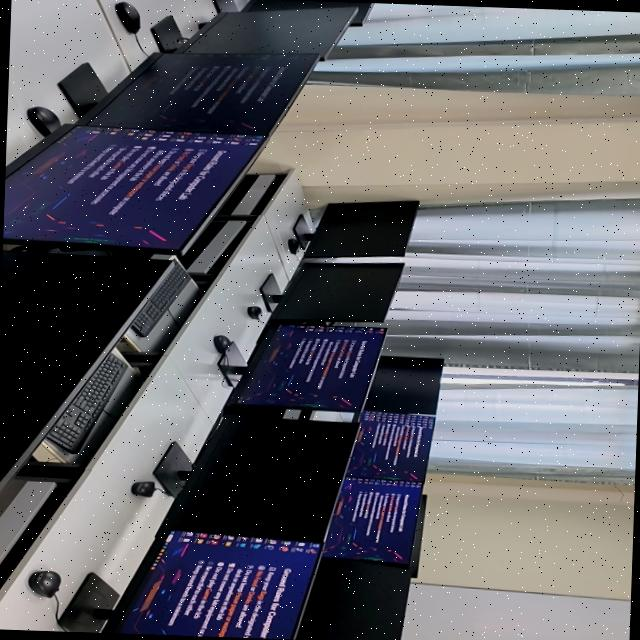Chair: (224, 399, 312, 418)
Keyboard: (46, 352, 125, 452), (129, 264, 189, 336)
Monitor: (0, 249, 178, 489), (3, 123, 264, 253), (154, 414, 359, 541), (116, 530, 321, 639), (59, 51, 318, 133), (218, 323, 387, 410), (151, 6, 355, 57), (295, 554, 411, 640), (260, 261, 403, 322), (324, 477, 422, 563), (293, 200, 418, 257), (347, 410, 435, 483), (365, 355, 443, 413), (243, 0, 373, 24), (410, 494, 427, 576)
Mouse: (27, 106, 61, 134), (28, 570, 61, 596), (115, 1, 140, 32), (131, 480, 156, 495), (214, 334, 232, 352), (288, 237, 302, 253), (247, 305, 262, 319)
